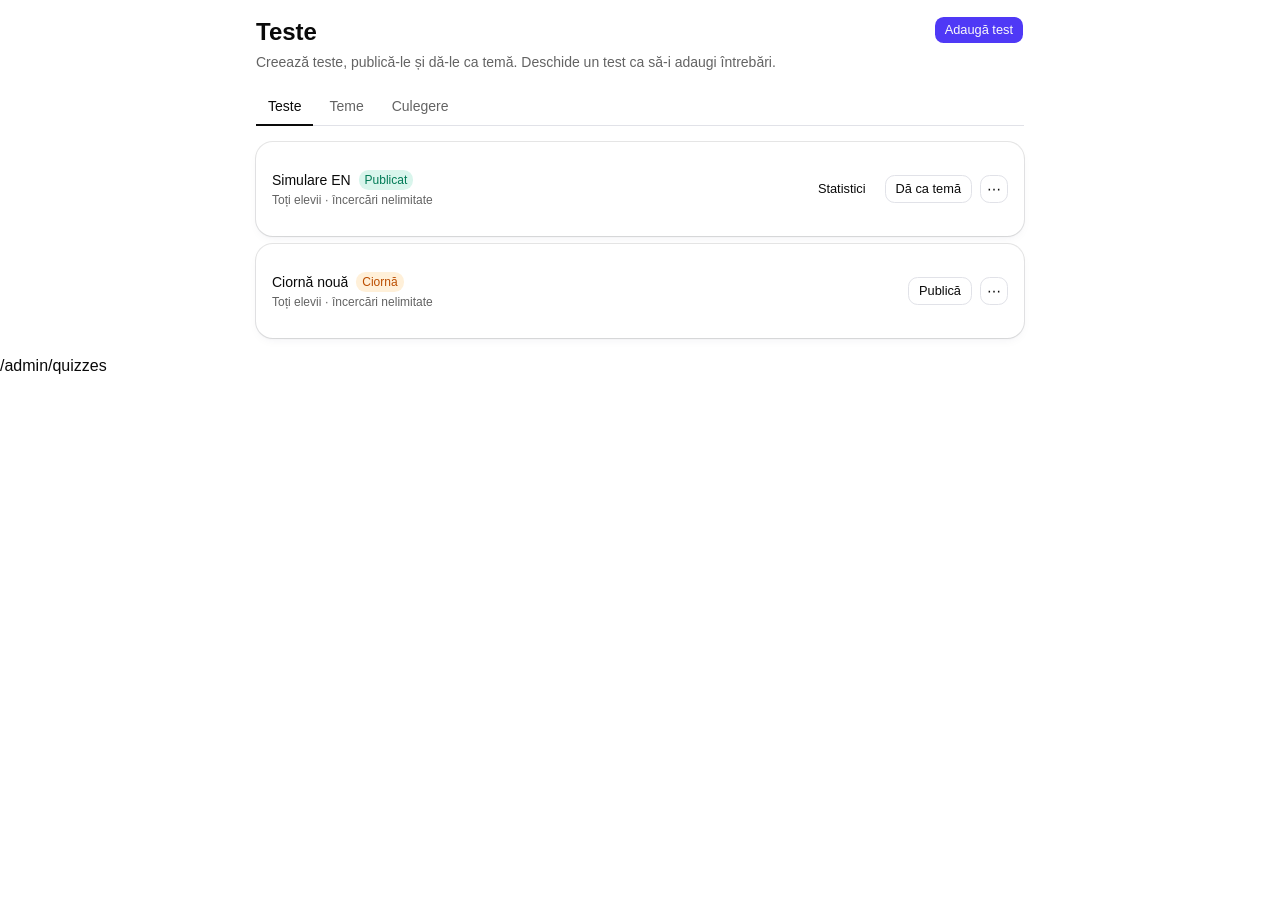
Test: AdminQuizzesPage › Depublică › still asks when the count cannot be read
Click the button named "Mai multe acțiuni pentru Simulare EN": (994, 189) [980,175,1008,203]
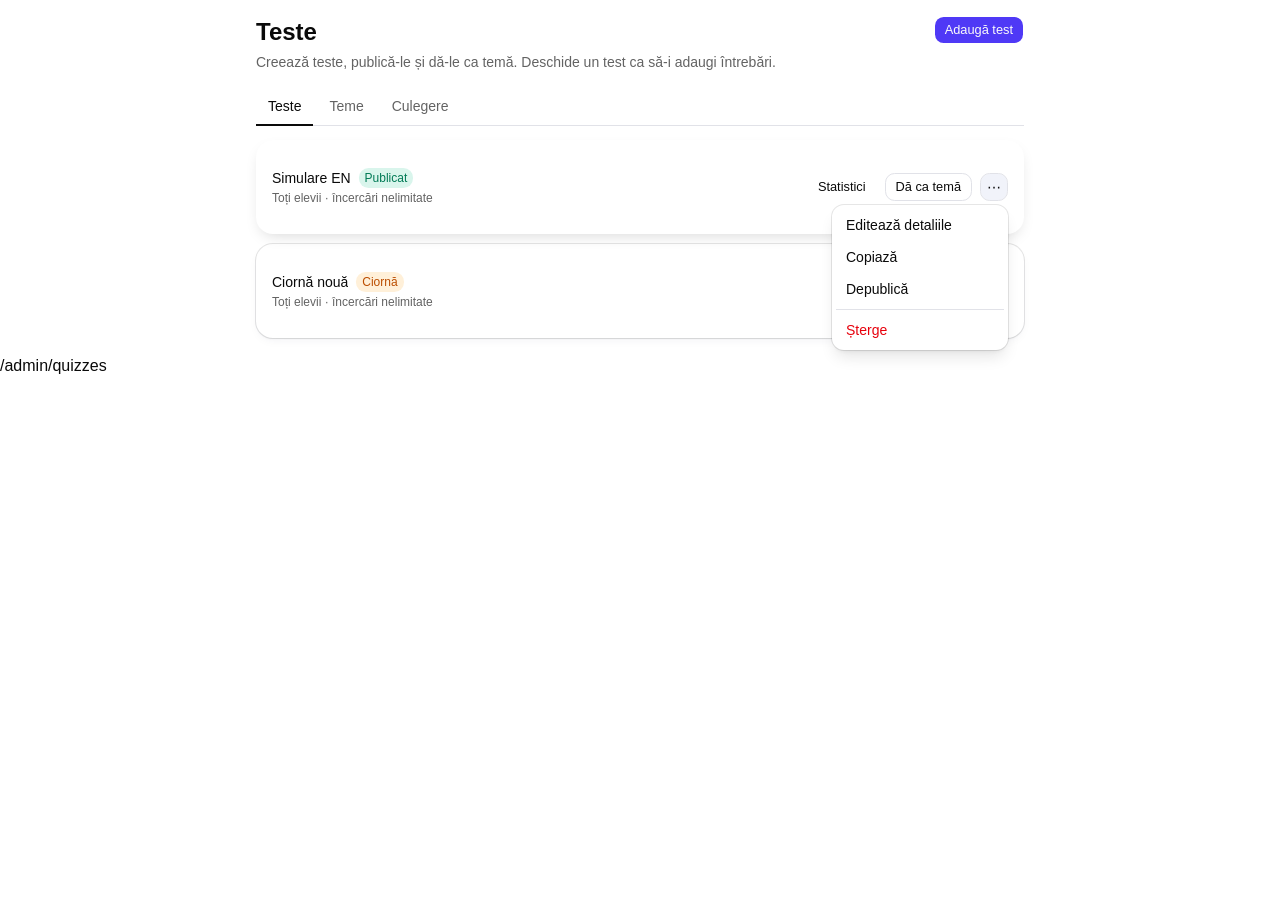
Click the menu item "Depublică": (877, 289) [846,281,908,297]
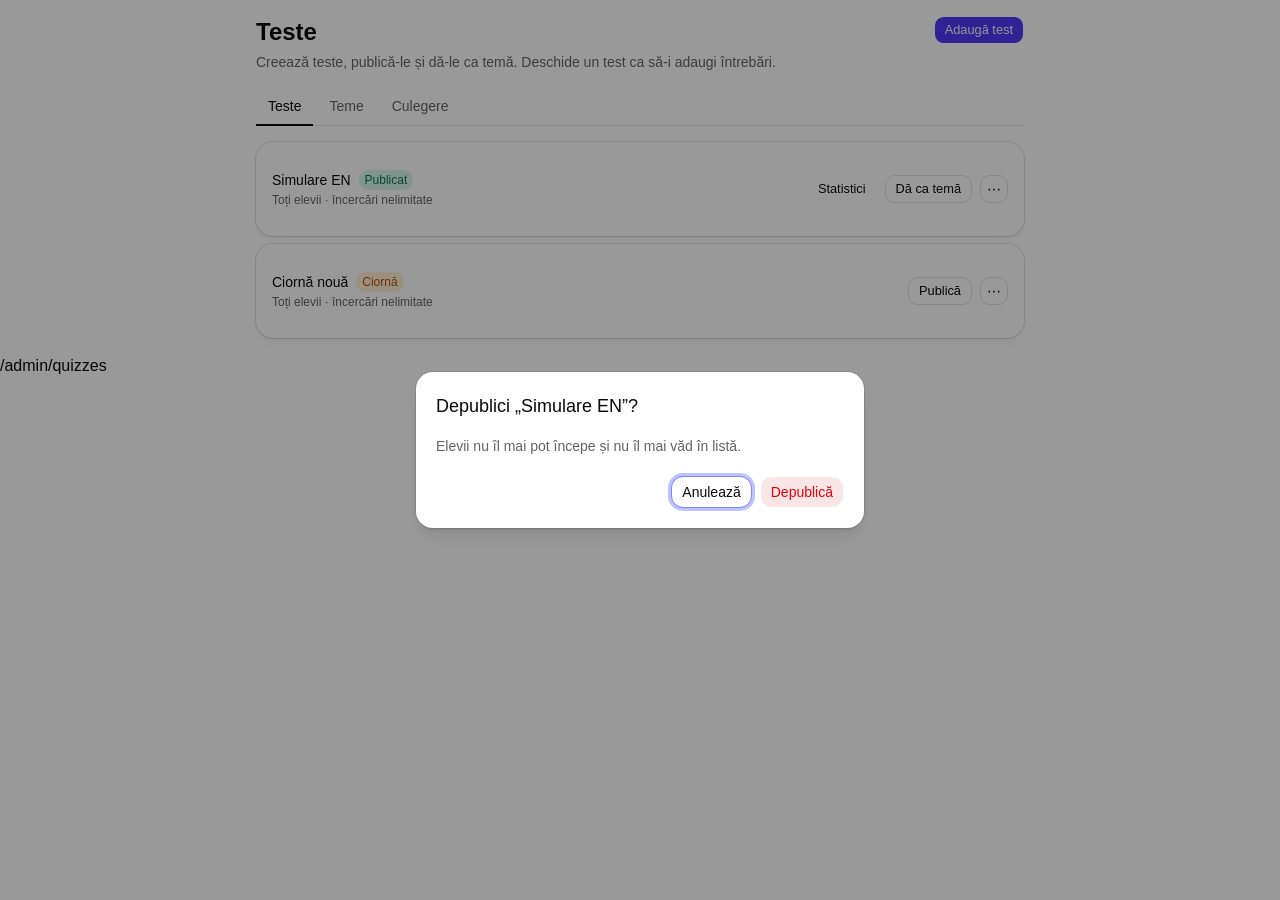
Result: the dialog "Depublici „Simulare EN”?" shows "Elevii nu îl mai pot începe" at [436,438,741,454]
